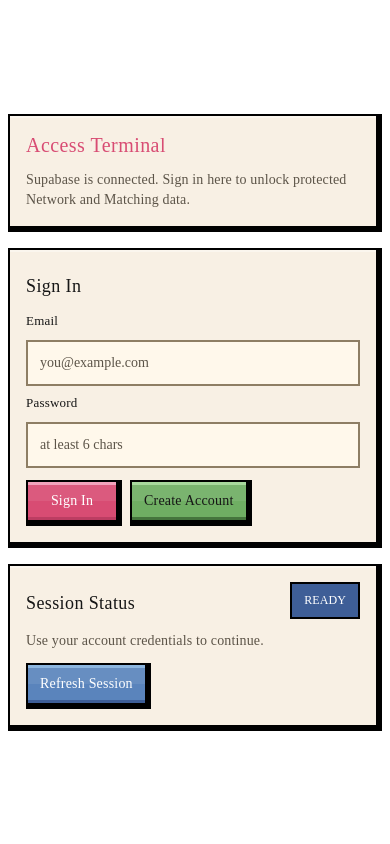
Test: AuthRequiredView › shows validation error when email is invalid
In the field with placeholder "you@example.com": (193, 362) [26,340,360,386], type "invalid-email"
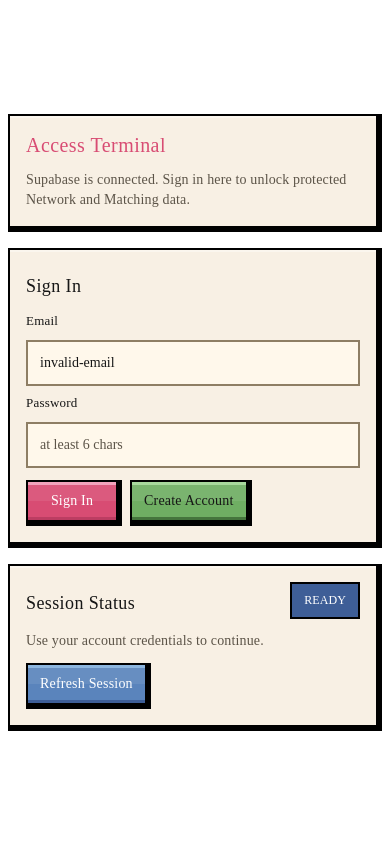
In the password field with placeholder "at least 6 chars": (193, 444) [26,422,360,468], type "123456"
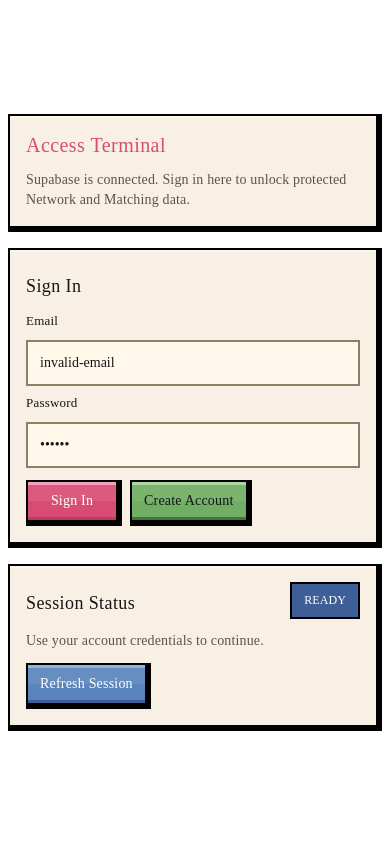
Click the button with test id "auth-signin": (74, 502) [26,480,122,526]
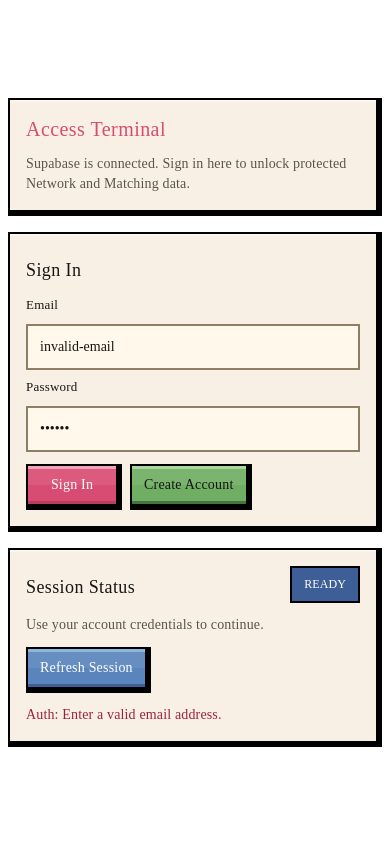
Now the text "Auth: Enter a valid email address." is shown, box [26,706,222,722]
